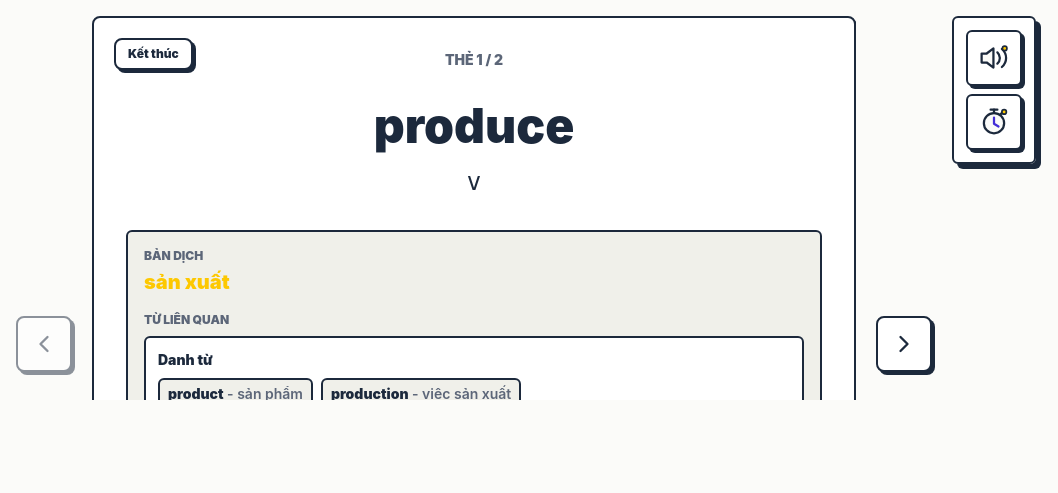
Scenario: FlashcardStudyPage › uses the configured shortcut to confirm remembered from the centered prompt
Click the button named "Thẻ tiếp theo" at (904, 344), box [876,316,932,372]
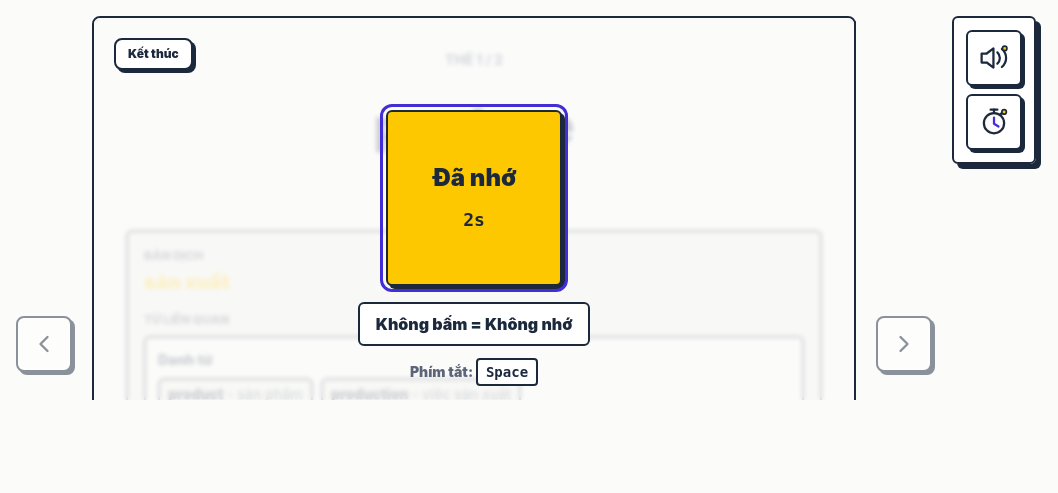
expect the text "Space" is shown: met, box [476,358,538,386]
Press Space
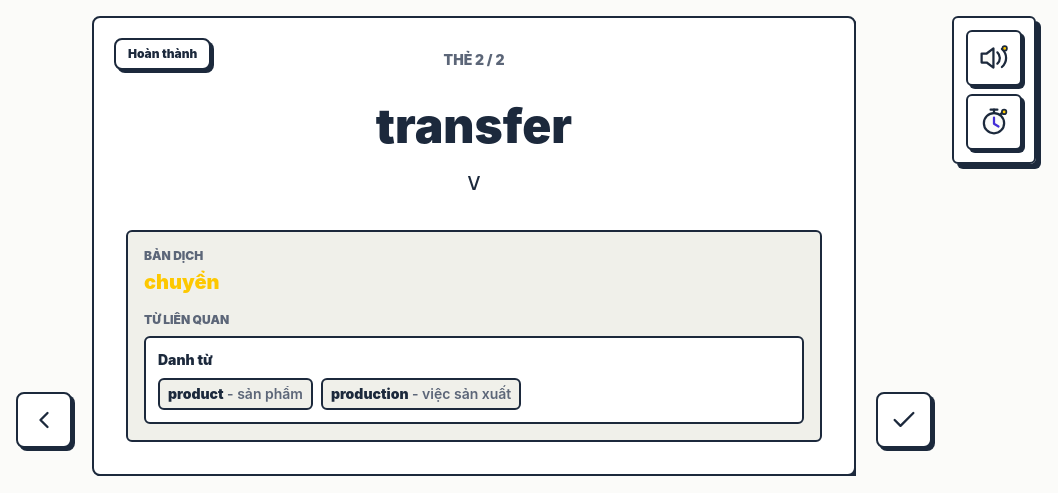
expect the text "transfer" is shown: met, box [376,96,572,155]
